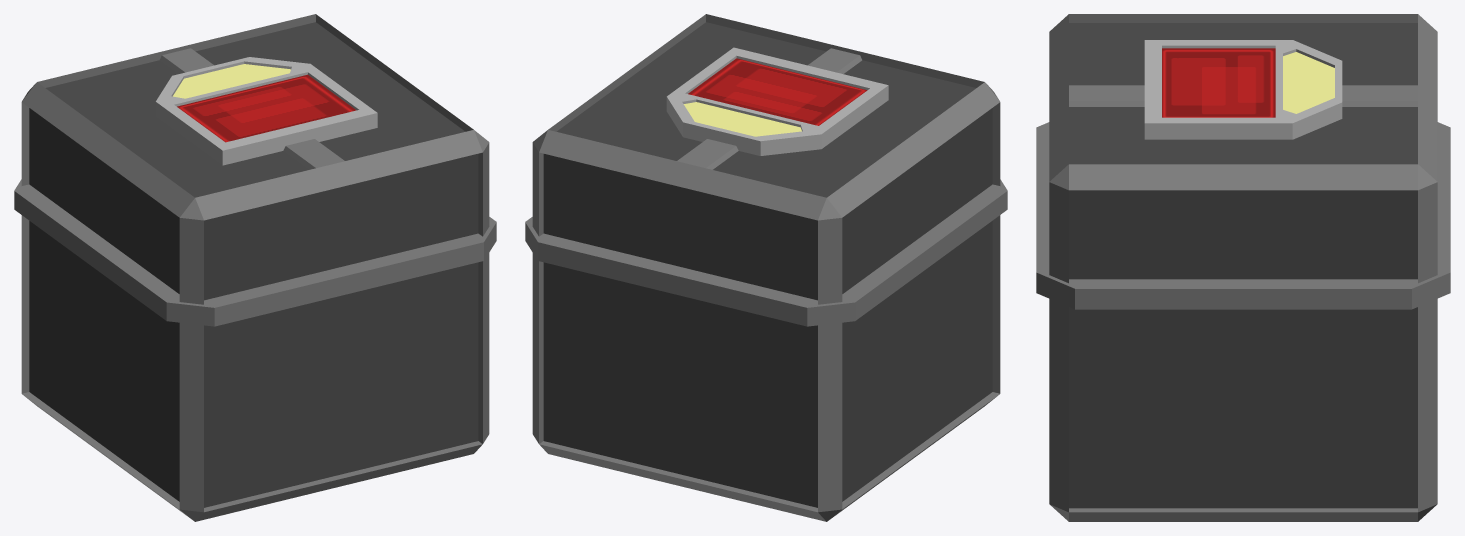
The model's file is Locked_Crate_2x2.fbx.
3 views of the same model, side by side, from view 1: azimuth 30°, elevation 25°; view 2: azimuth 150°, elevation 25°; view 3: azimuth 270°, elevation 25° (orthographic). The views are drawn at different scales.
Visible parts, largest first — view 1: Locked_Crate_2x2; view 2: Locked_Crate_2x2; view 3: Locked_Crate_2x2.
Part boxes in pixels (left/top/right/bottom): Locked_Crate_2x2: left=14, top=14, right=496, bottom=521; Locked_Crate_2x2: left=525, top=14, right=1007, bottom=521; Locked_Crate_2x2: left=1036, top=14, right=1450, bottom=521.
Bounding box in the file's own units: 202 × 194 × 199.
